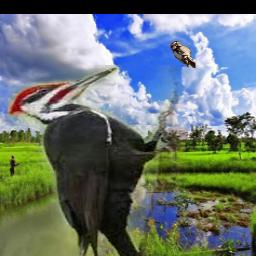Woodpecker: (9, 65, 189, 256), (170, 40, 196, 68)
